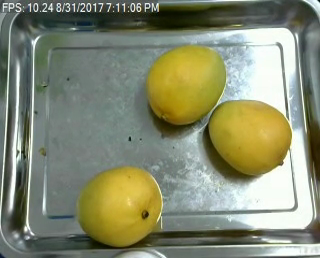Mango: (75, 163, 168, 244), (208, 94, 296, 175), (142, 44, 226, 125)
